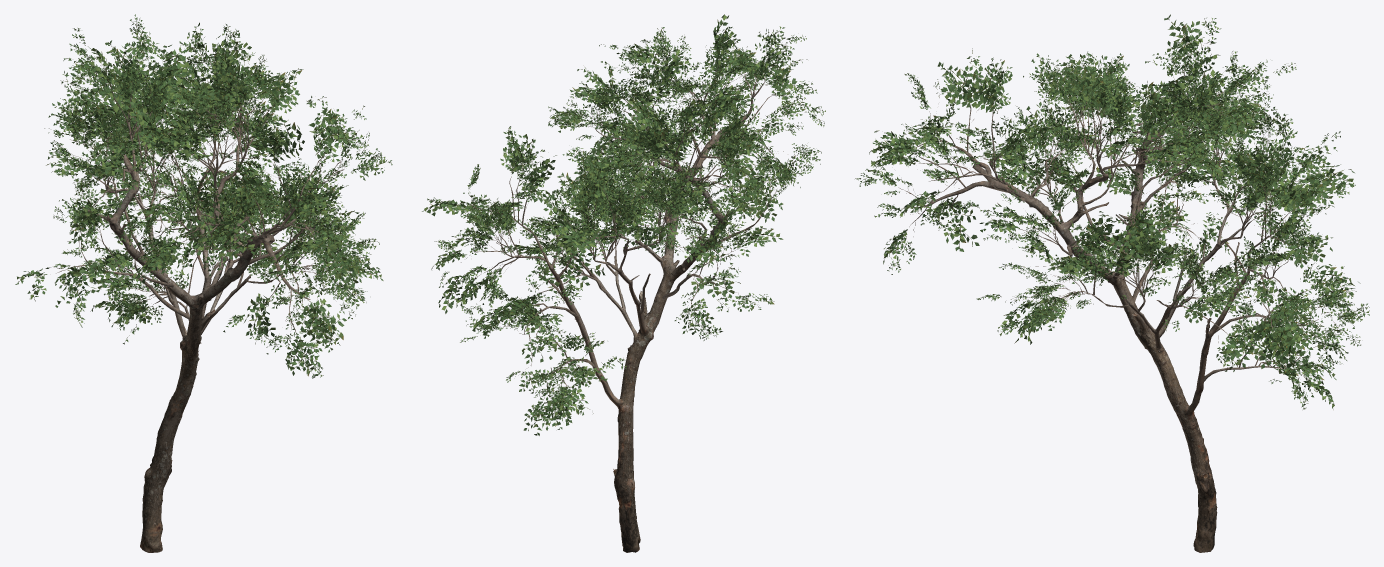
The model's file is broadleaf.glb.
3 views of the same model, side by side, from view 1: azimuth 30°, elevation 25°; view 2: azimuth 150°, elevation 25°; view 3: azimuth 270°, elevation 25° (orthographic). The views are drawn at different scales.
Visible parts, largest first — view 1: tree; view 2: tree; view 3: tree.
Part boxes in pixels (x1,y1,x2,y2): tree: [15, 14, 392, 552]; tree: [422, 14, 825, 552]; tree: [855, 14, 1369, 552].
Size of the model in its own units: 2.93 by 4.57 by 4.29.
3 materials, 3 textured.
